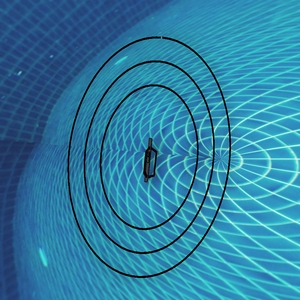submarine: (142, 139, 157, 182)
